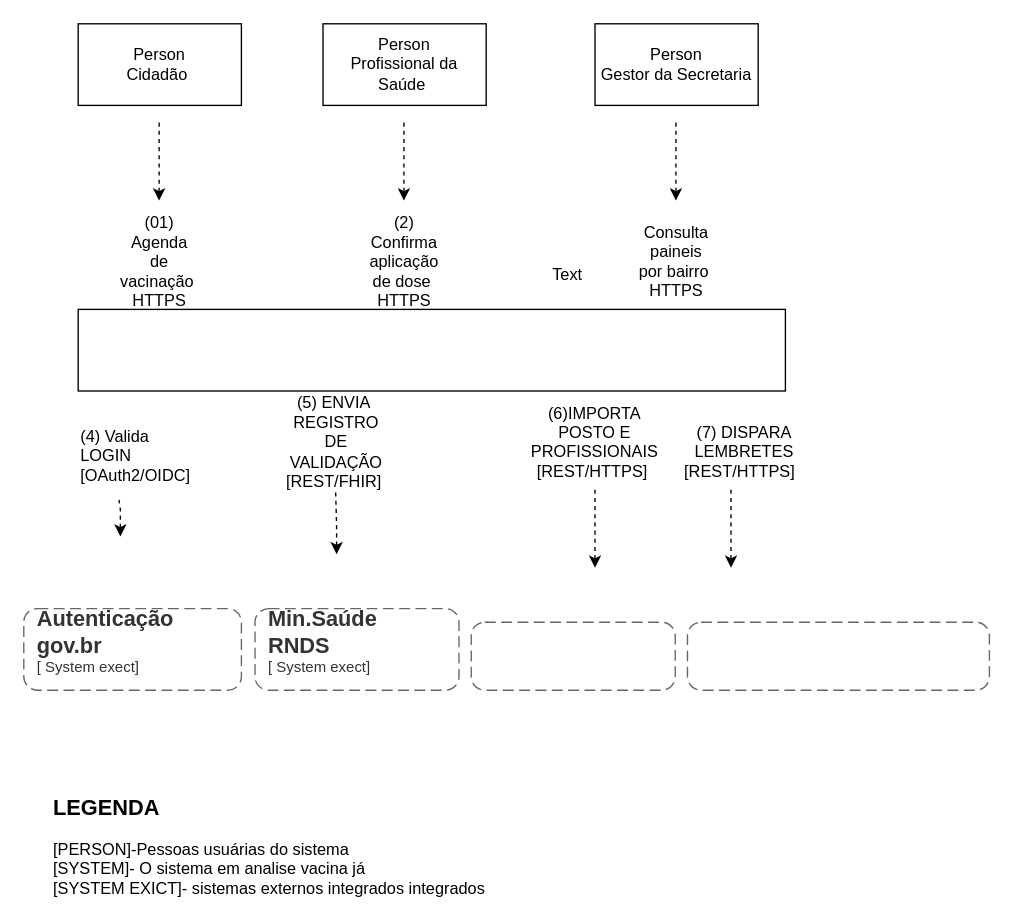
This 1013x923 diagram has some shape labels left out. Each missing label, with the centre of its shape:
"estabelecimento [ System exect]" goes at (x=572, y=655).
"Mensageria(SMS,Whatsap) [System exect ]" goes at (x=837, y=655).
"SISTEMA VACINA JÁ" goes at (x=431, y=349).
